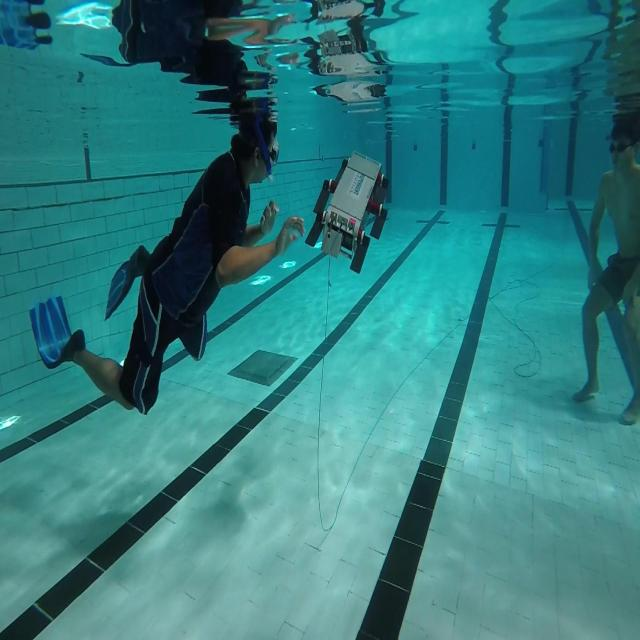human: (29, 104, 305, 416), (572, 110, 639, 426)
